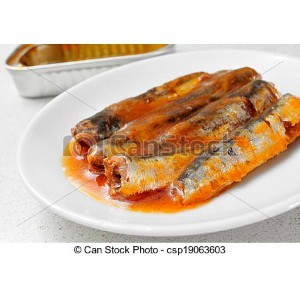sardine_brain food: (88, 70, 278, 211)
